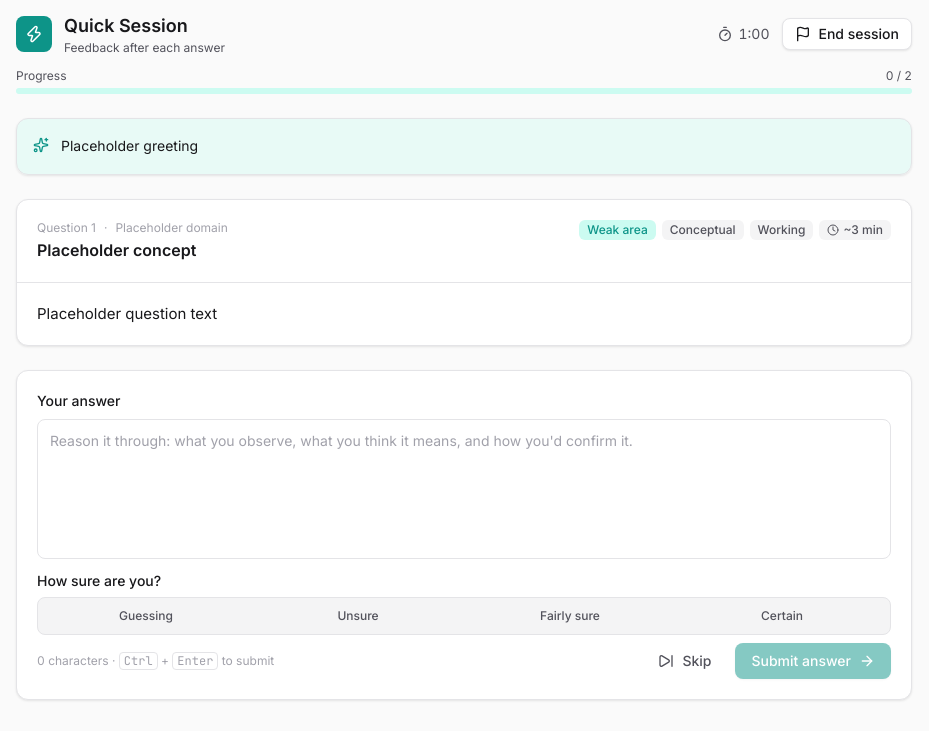
SessionPage › sends skipped:true when skipping
Click the button "Skip": (685, 661) [642,643,728,679]
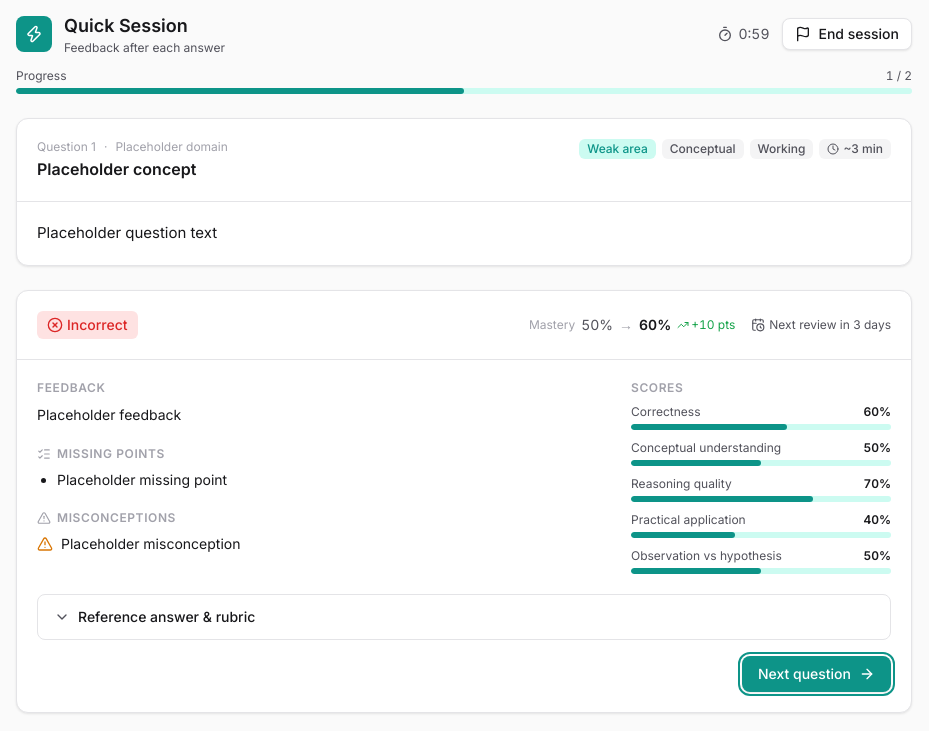
Expected: the text "Incorrect" is shown, [37,310,138,338]
